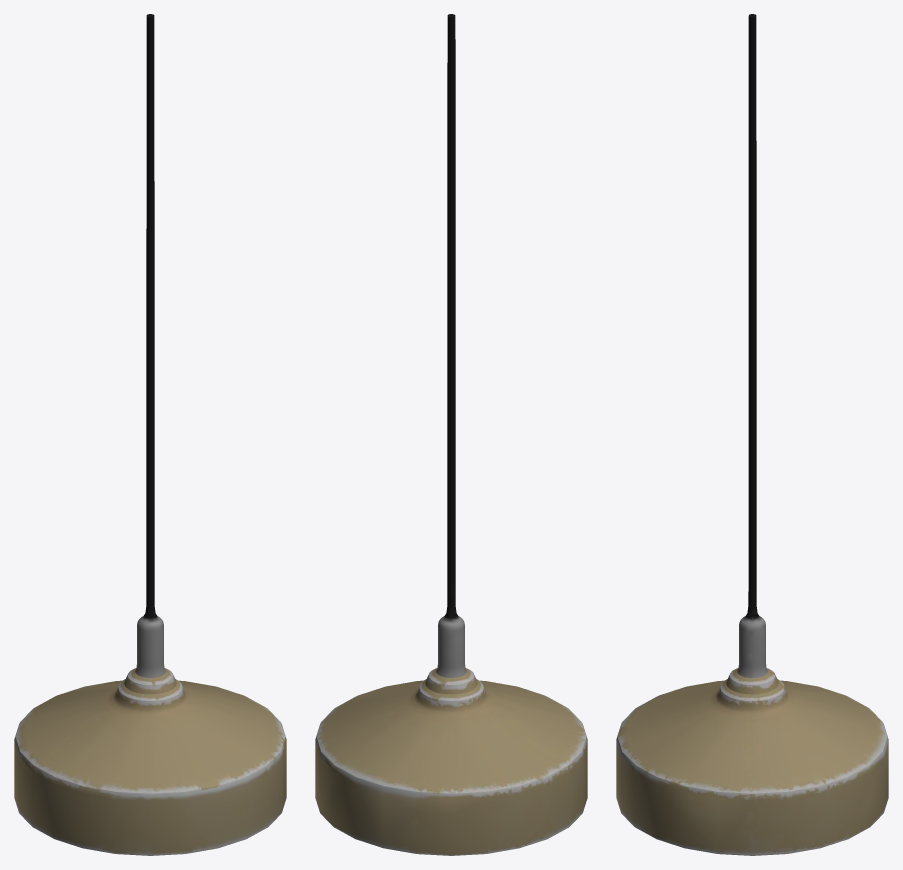
File: lamp.glb
3 views of the same model, side by side, from view 1: azimuth 30°, elevation 25°; view 2: azimuth 150°, elevation 25°; view 3: azimuth 270°, elevation 25° (orthographic).
Parts seen in each view (by area): view 1: BarCounterLamp_BarCounterLamp_MTL_0; view 2: BarCounterLamp_BarCounterLamp_MTL_0; view 3: BarCounterLamp_BarCounterLamp_MTL_0.
Part boxes in pixels (left/top/right/bottom): BarCounterLamp_BarCounterLamp_MTL_0: left=14, top=14, right=286, bottom=855; BarCounterLamp_BarCounterLamp_MTL_0: left=315, top=14, right=587, bottom=855; BarCounterLamp_BarCounterLamp_MTL_0: left=616, top=14, right=888, bottom=855.
Bounding box in the file's own units: 0.3821 × 1.25 × 0.3821.
2 materials, 2 textured.
